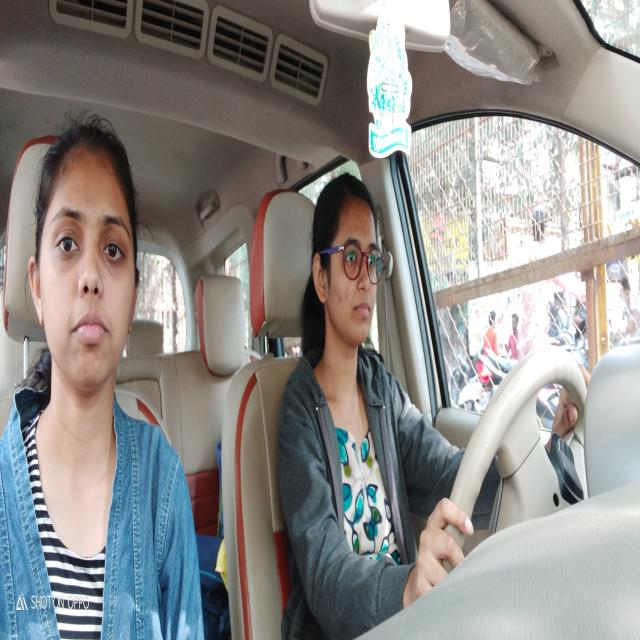person: (22, 119, 150, 415), (308, 156, 388, 374)
